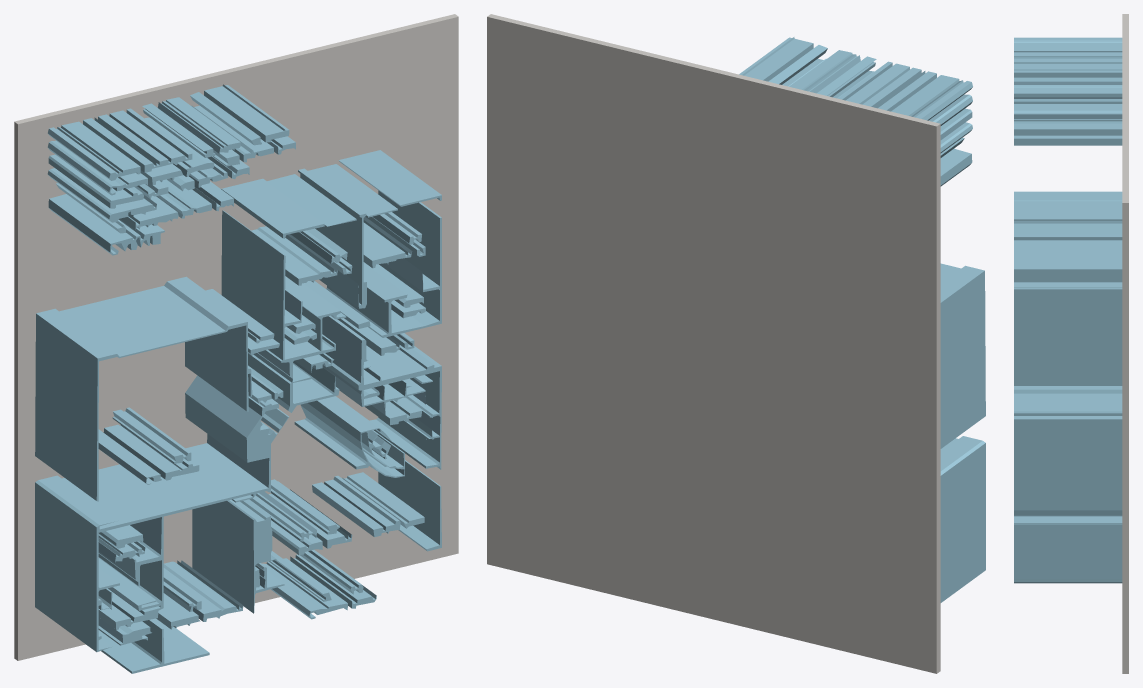
3 renders of one model, left to right at view 1: azimuth 30°, elevation 25°; view 2: azimuth 150°, elevation 25°; view 3: azimuth 270°, elevation 25°, orthographic. The views are drawn at different scales.
Parts seen in each view (by area): view 1: world; view 2: world; view 3: world.
Part boxes in pixels (left/top/right/bottom): world: left=14, top=14, right=458, bottom=673; world: left=487, top=14, right=985, bottom=673; world: left=1014, top=14, right=1128, bottom=673.
Size of the model in its own units: 10.23 by 11.9 by 2.63.
